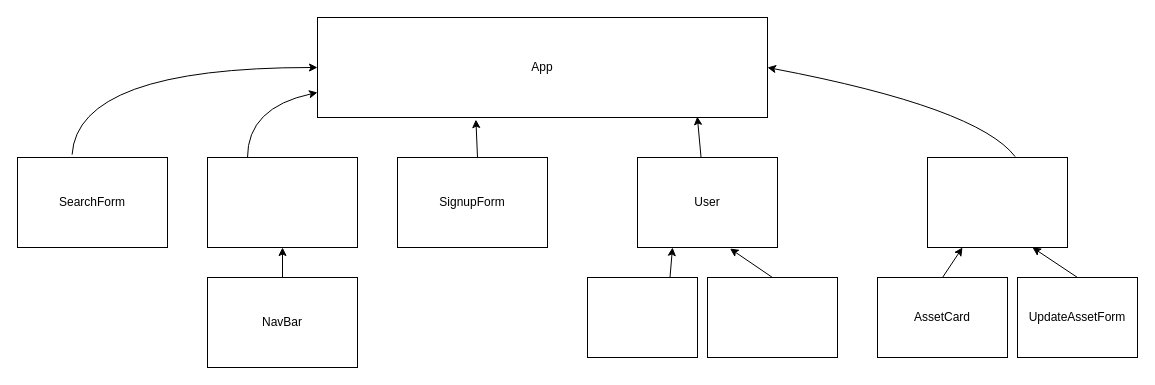
Image size: 1155x385. Some labels were removed from this diagram. The shapes that lost their labels are listed below. From the top down, each one's box as (x1, y1, x2, y2) in pixels, then its label:
(206, 156, 358, 248): Header
(926, 156, 1068, 248): Library
(586, 276, 698, 358): Profile
(706, 276, 838, 358): UpdateProfileForm
